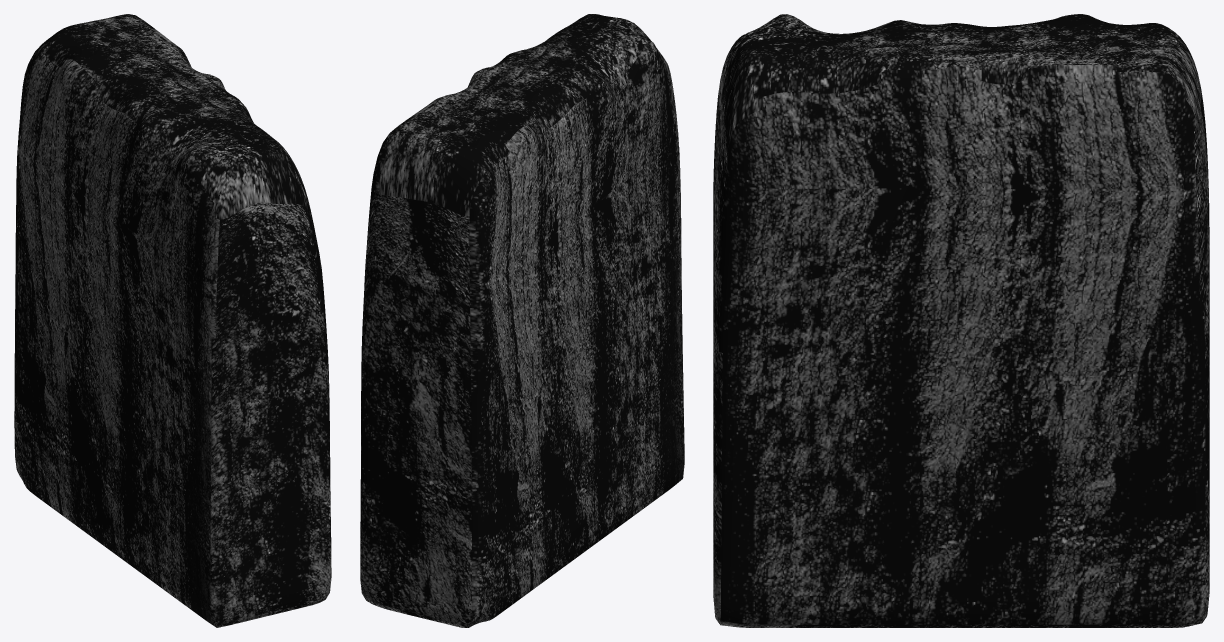
The model's file is BaseTerrain.fbx.
3 views of the same model, side by side, from view 1: azimuth 30°, elevation 25°; view 2: azimuth 150°, elevation 25°; view 3: azimuth 270°, elevation 25° (orthographic). The views are drawn at different scales.
Visible parts, largest first — view 1: prueba_terrain_stornoway:pCube1; view 2: prueba_terrain_stornoway:pCube1; view 3: prueba_terrain_stornoway:pCube1.
Boxes of the visible parts, box(x1,y1,x2,y2) form: prueba_terrain_stornoway:pCube1: box(14, 14, 331, 627); prueba_terrain_stornoway:pCube1: box(360, 14, 684, 627); prueba_terrain_stornoway:pCube1: box(713, 14, 1209, 627).
Size of the model in its own units: 5.34 by 18.96 by 15.38.
